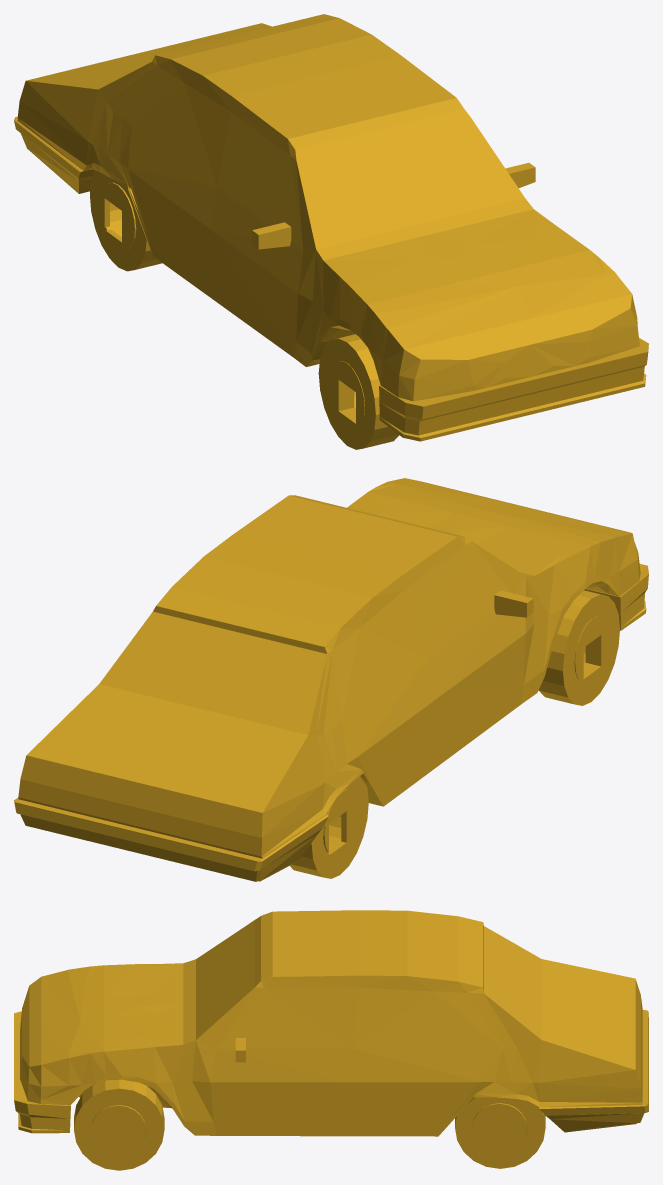
File: CocheNaranja.glb
3 renders of one model, top to bottom at view 1: azimuth 30°, elevation 25°; view 2: azimuth 150°, elevation 25°; view 3: azimuth 270°, elevation 25°, orthographic. The views are drawn at different scales.
Parts seen in each view (by area): view 1: Mesh_Mesh_head_geo.001_lambert2SG.001; view 2: Mesh_Mesh_head_geo.001_lambert2SG.001; view 3: Mesh_Mesh_head_geo.001_lambert2SG.001.
Part boxes in pixels (x1=…): Mesh_Mesh_head_geo.001_lambert2SG.001: x1=14, y1=14, x2=648, y2=449; Mesh_Mesh_head_geo.001_lambert2SG.001: x1=14, y1=478, x2=648, y2=881; Mesh_Mesh_head_geo.001_lambert2SG.001: x1=14, y1=910, x2=648, y2=1170.
Size of the model in its own units: 0.00235 by 0.00185 by 0.00587.
